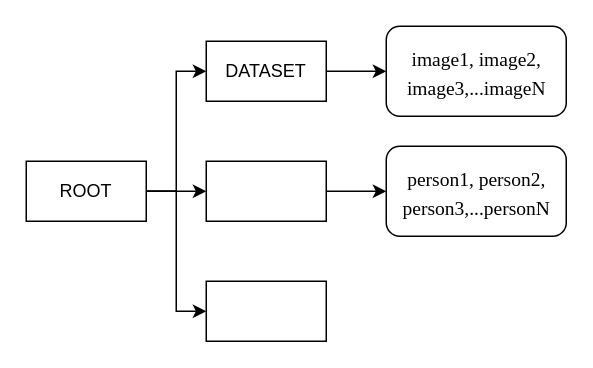
This 593x368 diagram has some shape labels left out. Each missing label, with the centre of its shape:
"OUTPUT" goes at (265,310).
"PEOPLE" goes at (265,190).
